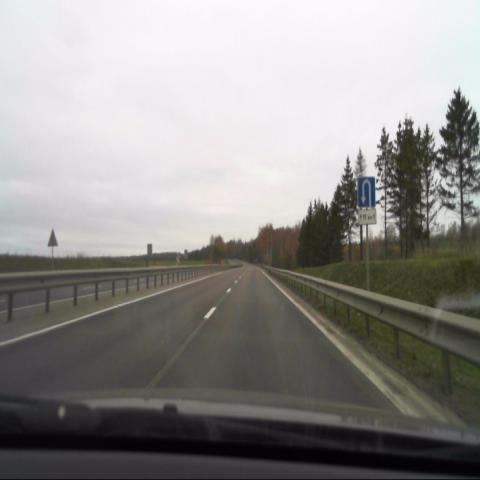6_3_1: (358, 175, 376, 207)
